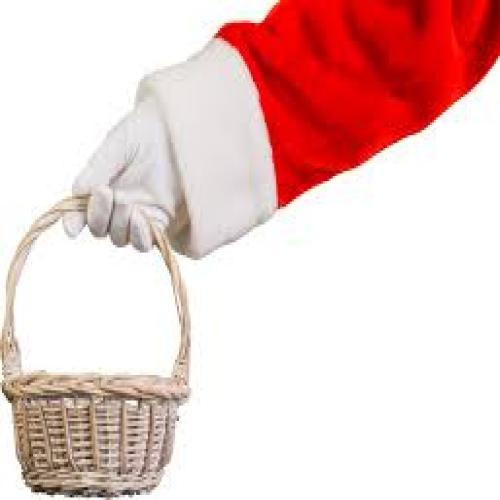Santa: (56, 0, 500, 265)
